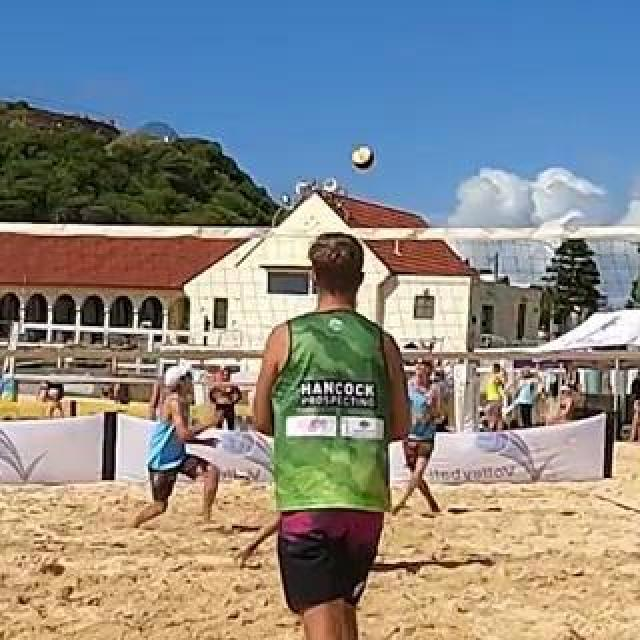volleyball: (353, 146, 377, 170)
